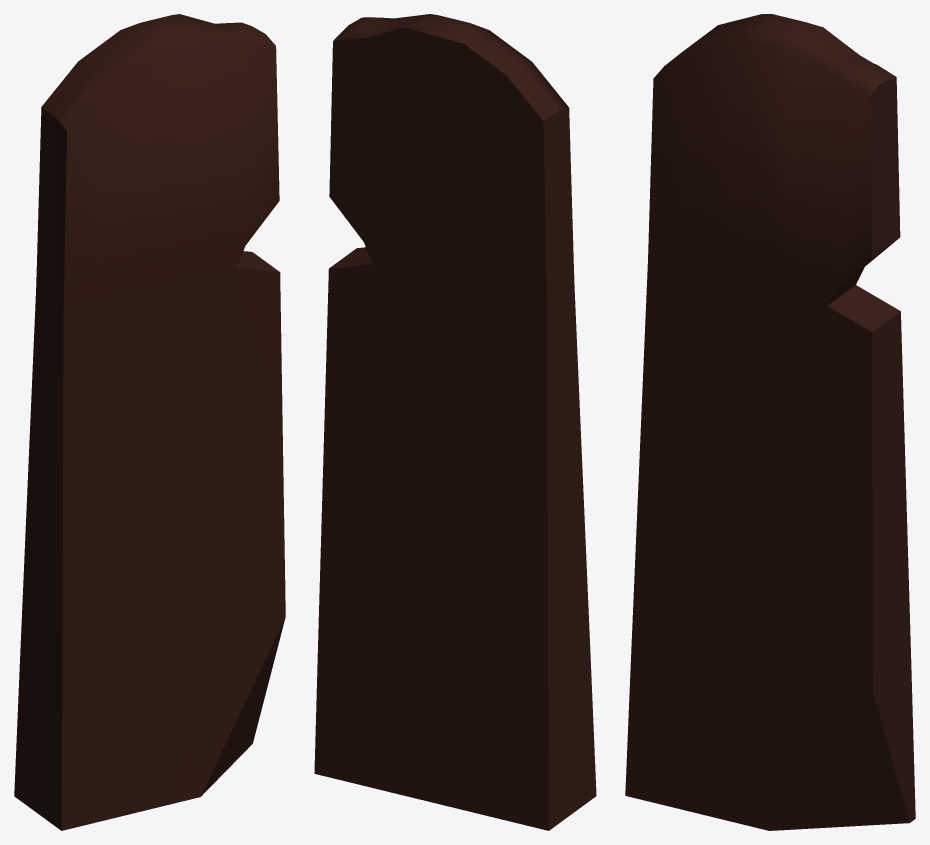
The model's file is 4 - Maiden Stone Cross-slab.FBX.
3 views of the same model, side by side, from view 1: azimuth 30°, elevation 25°; view 2: azimuth 150°, elevation 25°; view 3: azimuth 330°, elevation 25° (orthographic). The views are drawn at different scales.
Visible parts, largest first — view 1: Box008; view 2: Box008; view 3: Box008.
Boxes of the visible parts, x1,y1,x2,y2 form: Box008: [14, 14, 285, 830]; Box008: [314, 14, 596, 830]; Box008: [625, 14, 915, 830].
Bounding box in the file's own units: 47.54 × 148 × 16.74.
